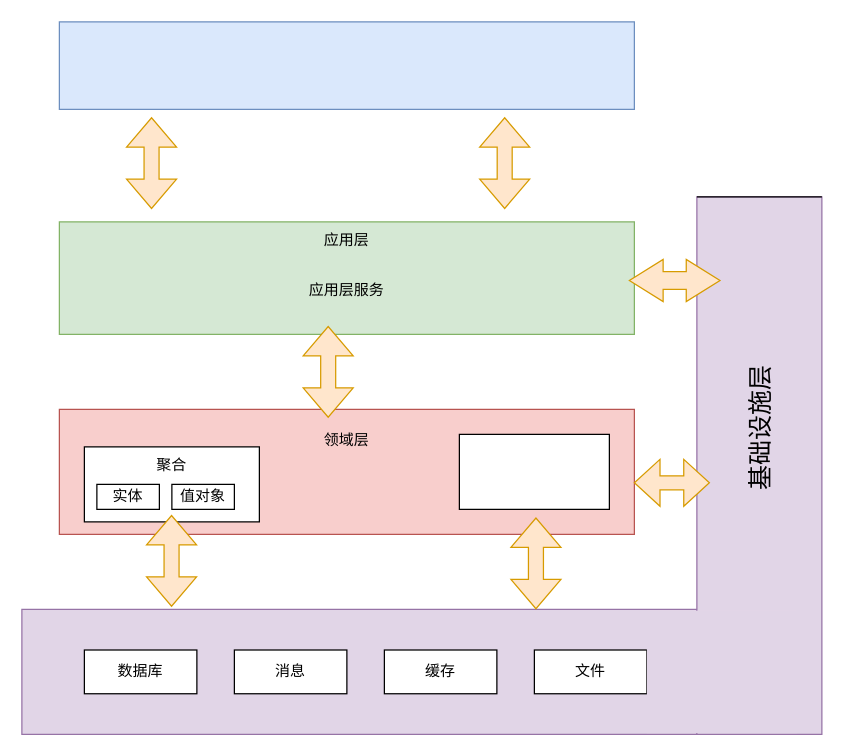
The diagram is 845 pixels wide and 756 high, and some of its shapes have lost their labels. Each missing label, with the centre of its shape:
展现层: the point at 346,65
领域层服务: the point at 533,471
